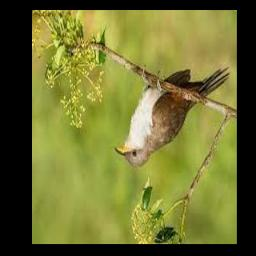Cuckoo: (114, 69, 230, 168)
